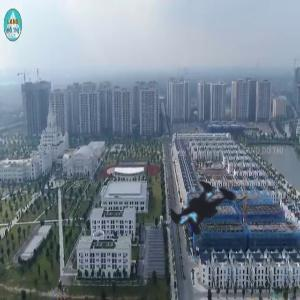drone: (139, 145, 269, 275)
